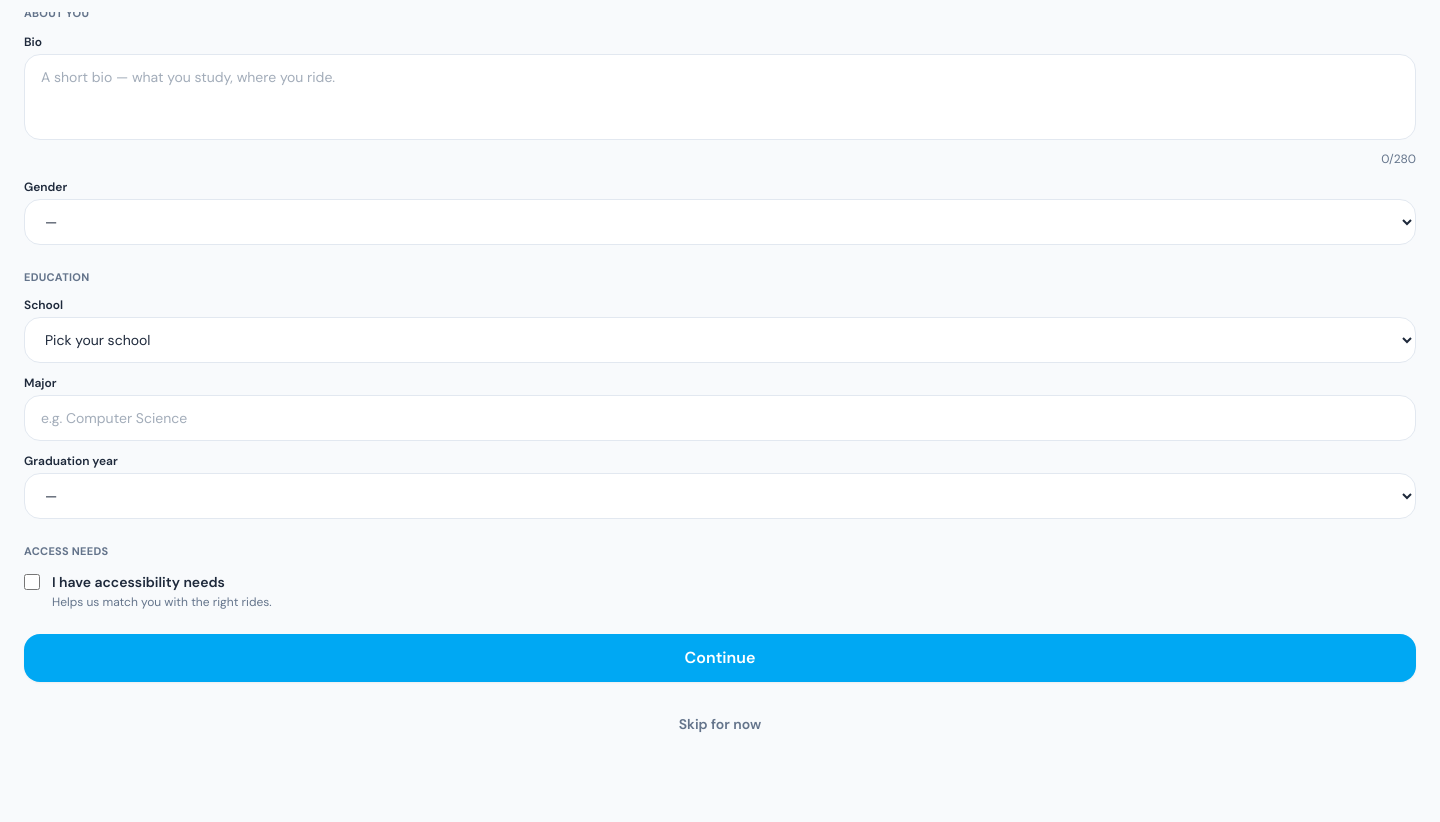
Test: AboutYouPage › surfaces a save error inline without navigating
This screenshot has width=1440, height=822.
(page scrolled)
Click the button with test id "about-you-continue" at {"x": 720, "y": 658}, box [24, 634, 1416, 682]
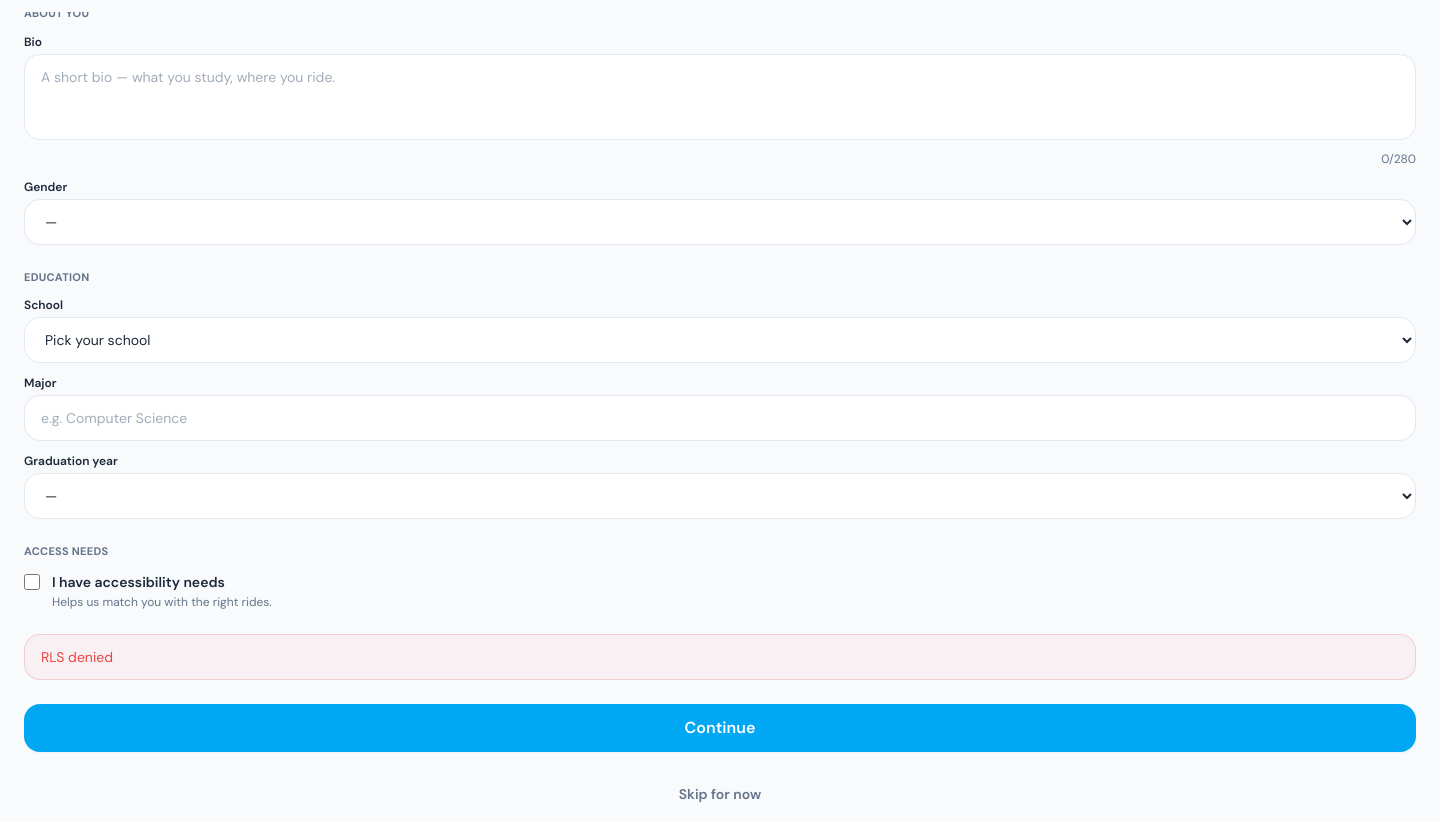
Now the message with test id "about-you-error" reads "RLS denied", box [41, 648, 113, 666]
